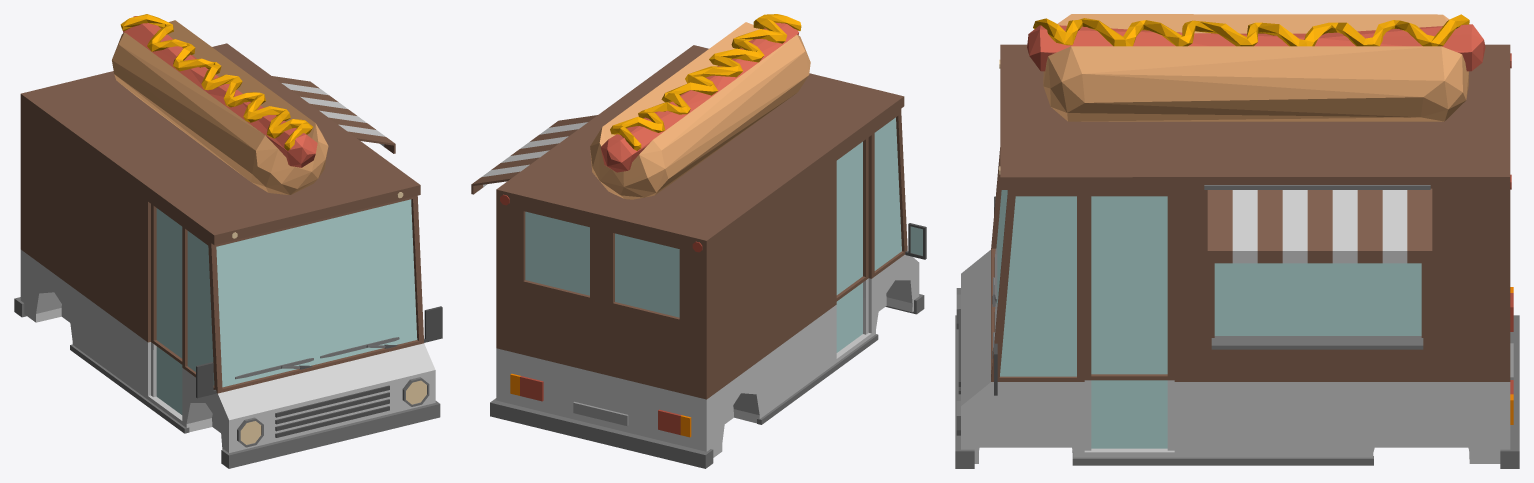
File: Car_17.fbx
3 views of the same model, side by side, from view 1: azimuth 30°, elevation 25°; view 2: azimuth 150°, elevation 25°; view 3: azimuth 270°, elevation 25° (orthographic). The views are drawn at different scales.
Parts seen in each view (by area): view 1: Car_17; view 2: Car_17; view 3: Car_17.
Boxes of the visible parts, bbox=[...] form: Car_17: bbox=[14, 14, 442, 468]; Car_17: bbox=[471, 14, 926, 468]; Car_17: bbox=[955, 14, 1519, 468].
Bounding box in the file's own units: 271 × 269 × 360.
